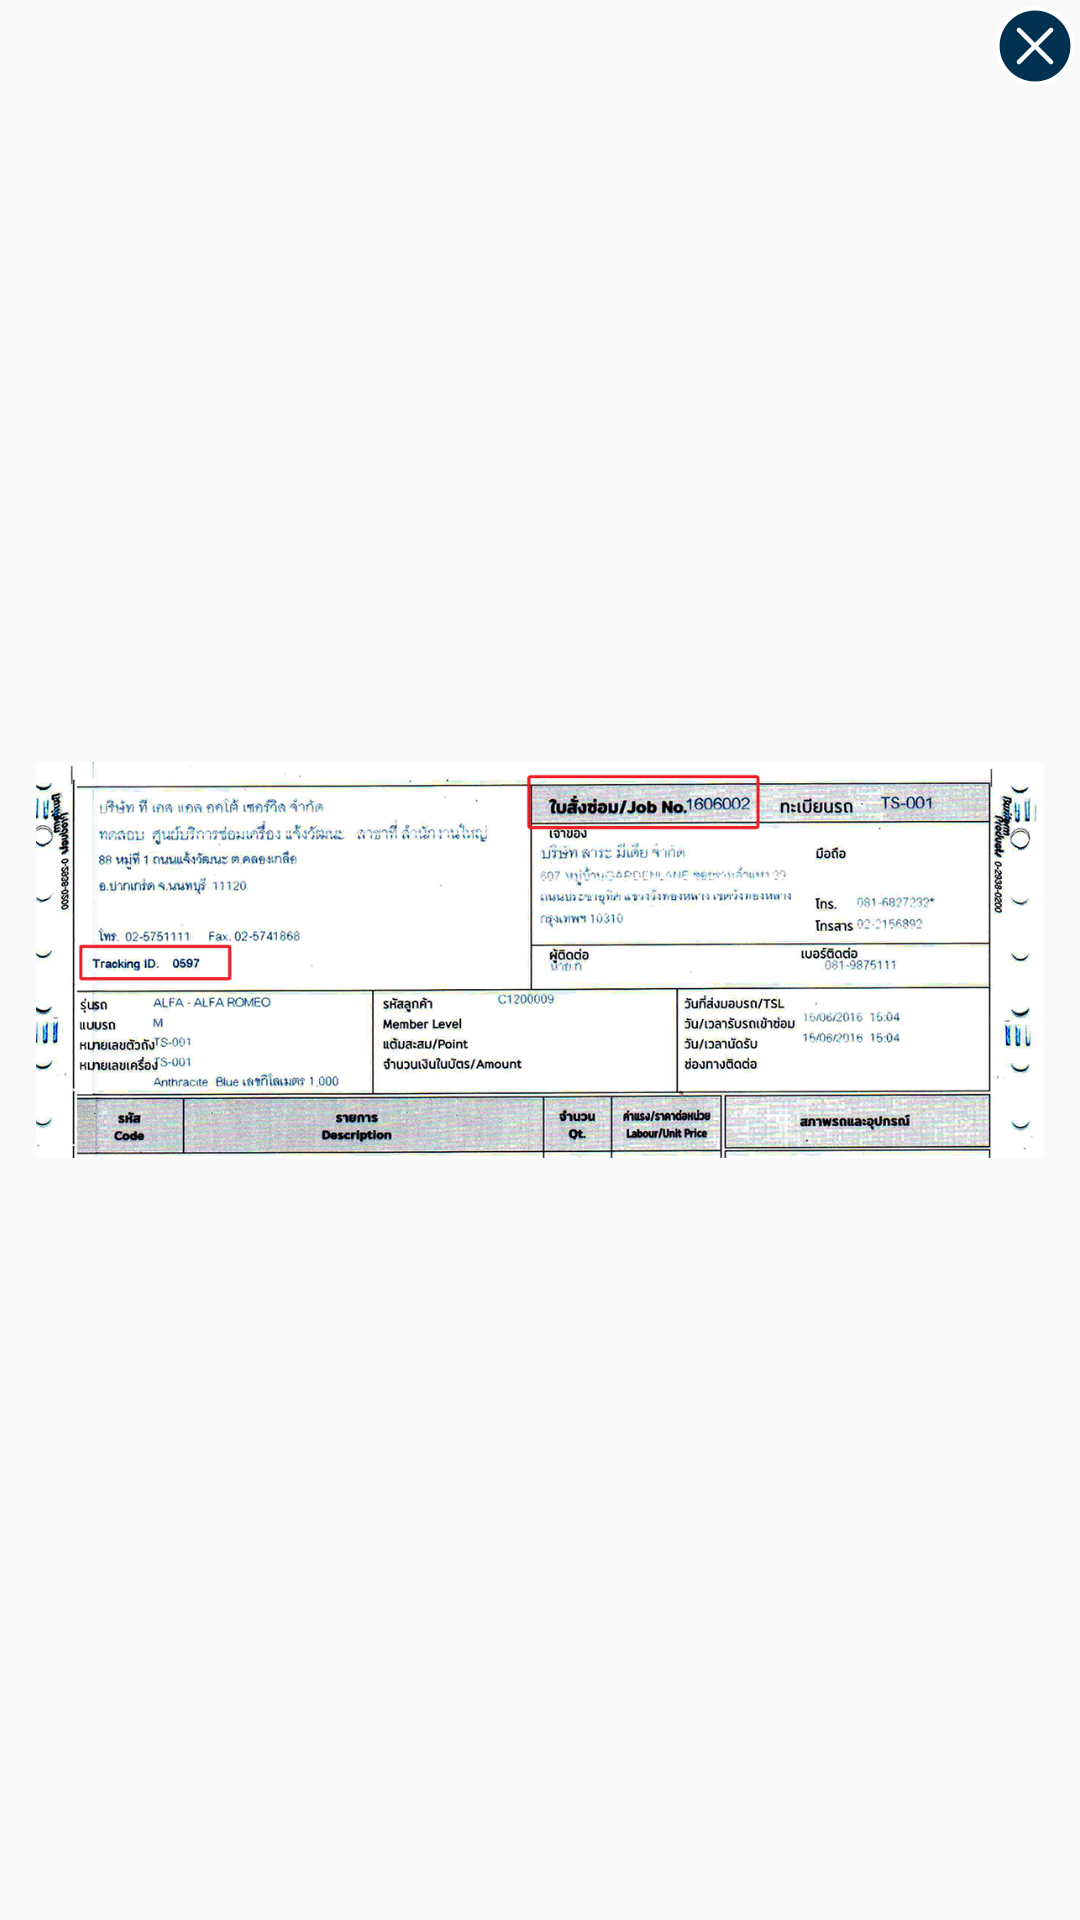

Icon click points for this 1080 x 1920 phone screenshot, format (x,y):
close popup: (1035,46)
